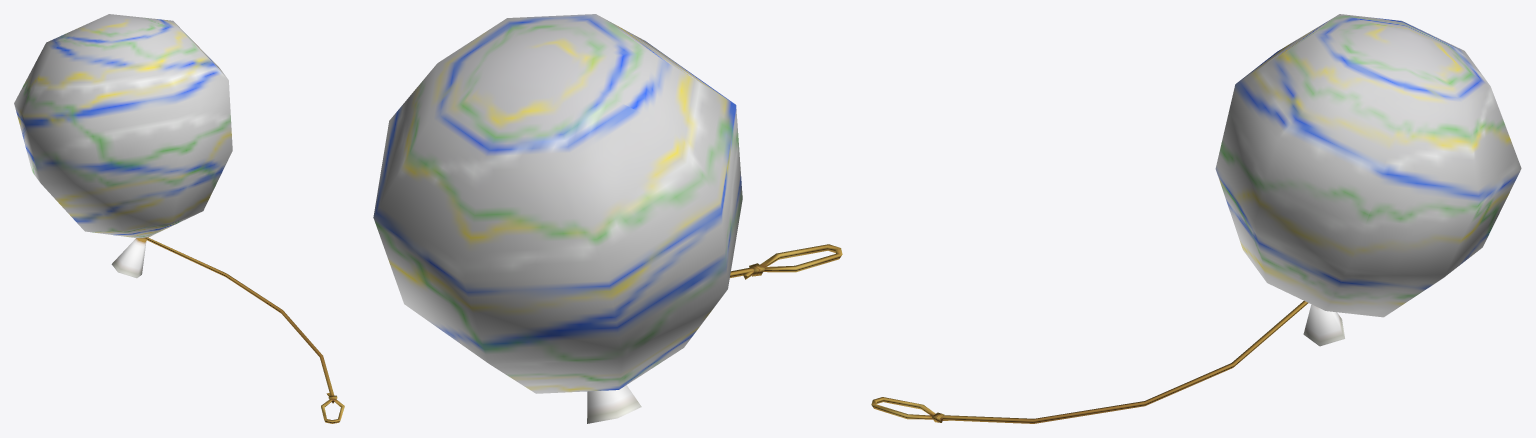
File: jsf_WaterBalloon_14_e.fbx
3 views of the same model, side by side, from view 1: azimuth 30°, elevation 25°; view 2: azimuth 150°, elevation 25°; view 3: azimuth 270°, elevation 25° (orthographic). The views are drawn at different scales.
Visible parts, largest first — view 1: jsf_WaterBalloon_14_e; view 2: jsf_WaterBalloon_14_e; view 3: jsf_WaterBalloon_14_e.
Boxes of the visible parts, x1=… form: jsf_WaterBalloon_14_e: x1=14, y1=14, x2=344, y2=423; jsf_WaterBalloon_14_e: x1=373, y1=14, x2=842, y2=423; jsf_WaterBalloon_14_e: x1=871, y1=14, x2=1521, y2=423.
Bounding box in the file's own units: 10.92 × 14.38 × 23.6.
